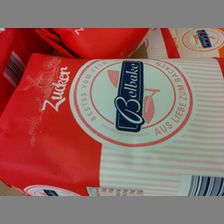flour: (1, 52, 224, 197)
